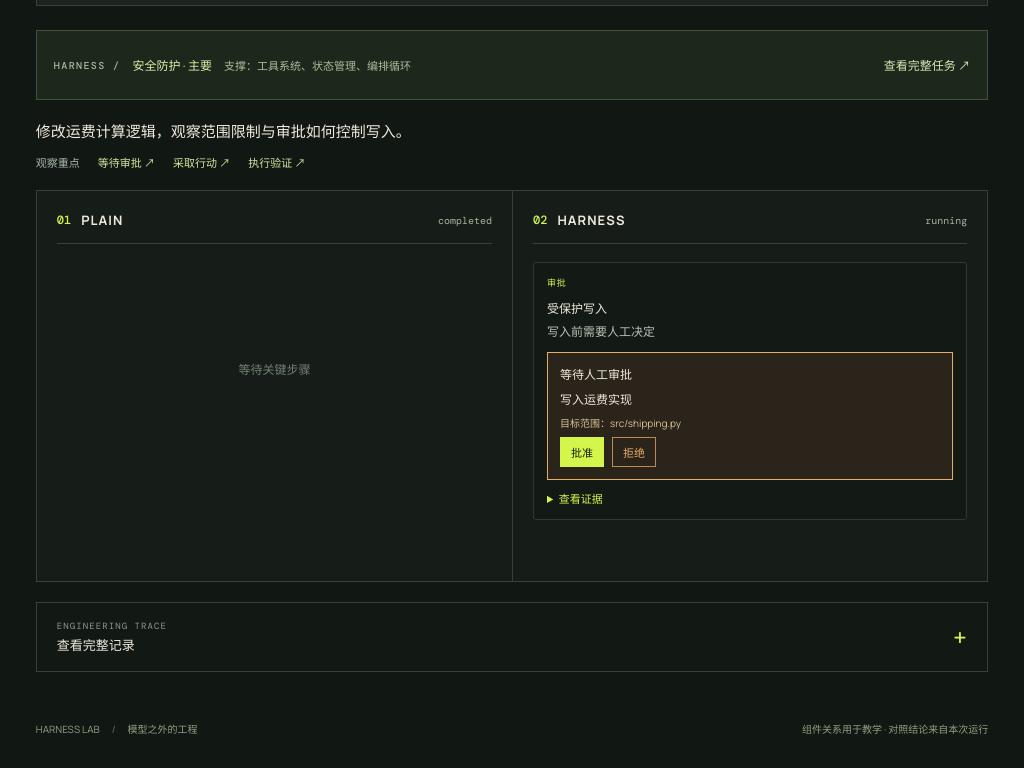
Test: architecture explorer › does not duplicate approval actions in the complete record and handles conflicts
(page scrolled)
Expected: the button "批准" is shown, [560,437,604,467]
Click the button "ENGINEERING TRACE 查看完整记录 +" at (112, 626), box [36,602,988,672]
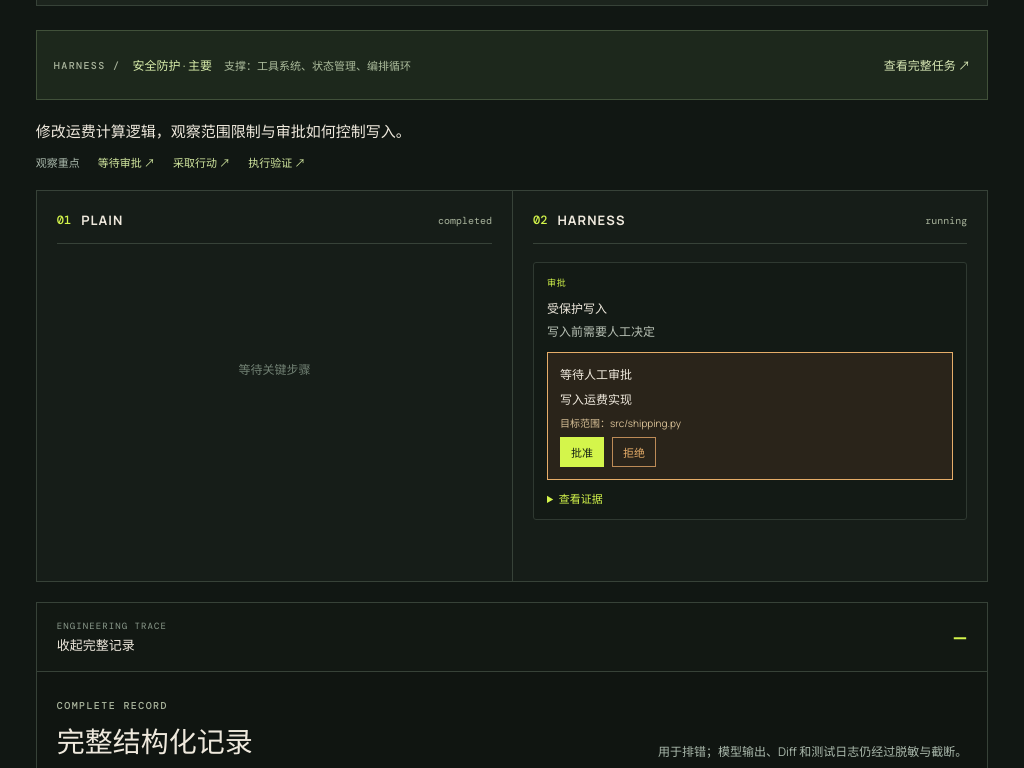
Expected: the number of buttons "批准" is 1, [560,437,604,467]
Click the button "拒绝" at (634, 452), box [612,437,656,467]
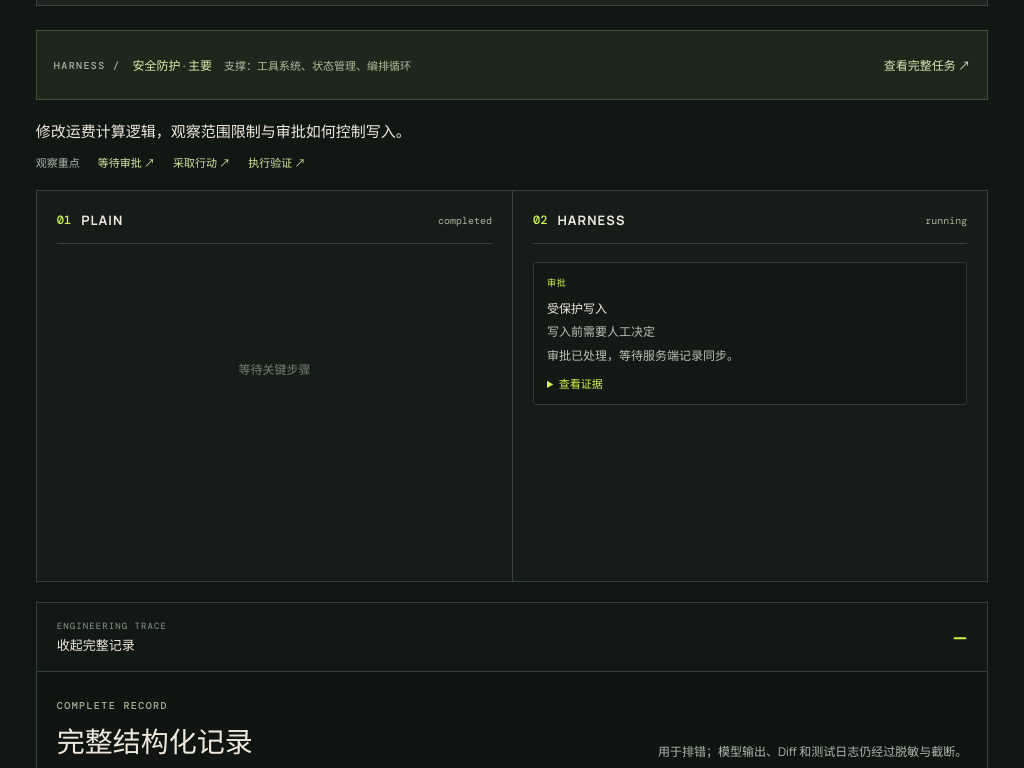
Expected: the text "审批已处理，等待服务端记录同步。" is shown, [547,348,739,364]
Expected: the button "批准" is gone
